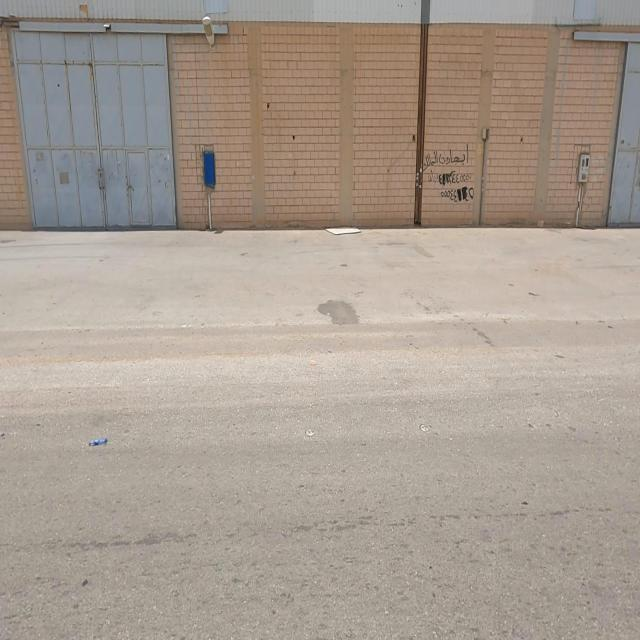Graffiti: (426, 144, 475, 204)
